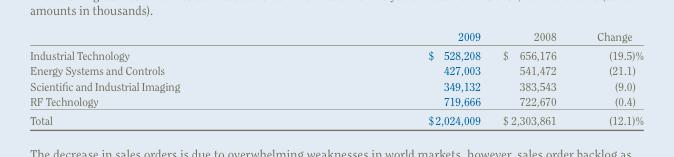table: (29, 29, 642, 126)
table column: (29, 29, 303, 126), (303, 29, 490, 126), (490, 29, 576, 126), (576, 29, 642, 126)
table column header: (29, 29, 642, 45)
table row: (29, 45, 642, 62), (29, 93, 642, 110), (29, 29, 642, 45), (29, 77, 642, 93), (29, 110, 642, 126), (29, 62, 642, 77)
